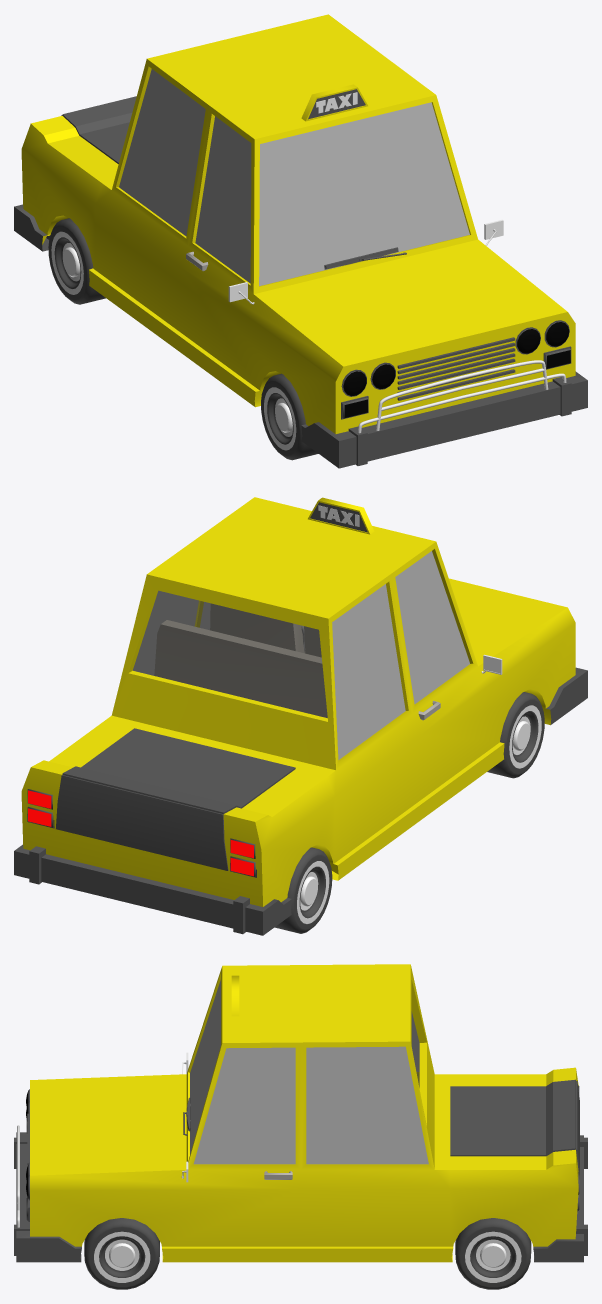
Rendered from car1.fbx.
3 views of the same model, one above another, from view 1: azimuth 30°, elevation 25°; view 2: azimuth 150°, elevation 25°; view 3: azimuth 270°, elevation 25° (orthographic). The views are drawn at different scales.
Parts seen in each view (by area): view 1: Main_car_1_4, Head_lights_10, Back_wheel_left_11, Front_wheel_left_10, Cube_2_2; view 2: Main_car_1_4, Seats_17, Back_wheel_left_11, Front_wheel_left_10, Back_lights_9, Cube_2_2; view 3: Main_car_1_4, Back_wheel_right_11, Front_wheel_right_11.
Part boxes in pixels (x1,y1,x2,y2): Main_car_1_4: (14,14,587,468); Head_lights_10: (341,320,571,419); Back_wheel_left_11: (48,218,105,304); Front_wheel_left_10: (261,373,318,460); Cube_2_2: (301,84,367,121); Main_car_1_4: (14,497,587,935); Seats_17: (154,603,327,717); Back_wheel_left_11: (274,847,332,933); Front_wheel_left_10: (487,692,544,778); Back_lights_9: (27,789,256,877); Cube_2_2: (308,497,374,534); Main_car_1_4: (14,964,587,1262); Back_wheel_right_11: (455,1218,531,1289); Front_wheel_right_11: (84,1218,159,1289).
Bounding box in the file's own units: 366 × 371 × 761.
